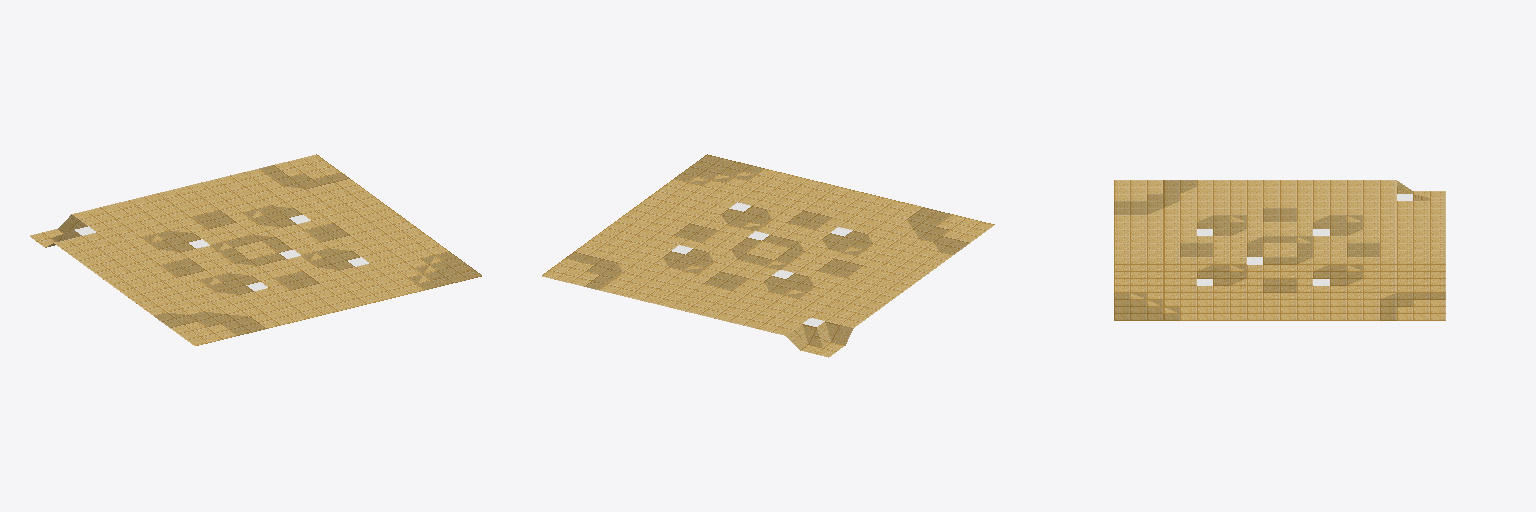
3 views of the same model, side by side, from view 1: azimuth 30°, elevation 25°; view 2: azimuth 150°, elevation 25°; view 3: azimuth 270°, elevation 25° (orthographic).
Visible parts, largest first — view 1: FloorCentral_3; view 2: FloorCentral_3; view 3: FloorCentral_3.
Part boxes in pixels (bbox=[...]): FloorCentral_3: bbox=[30, 154, 481, 345]; FloorCentral_3: bbox=[542, 154, 994, 357]; FloorCentral_3: bbox=[1114, 180, 1445, 320].
Bounding box in the file's own units: 20 × 0.7379 × 20.
Materials: 8 (7 with a texture image).